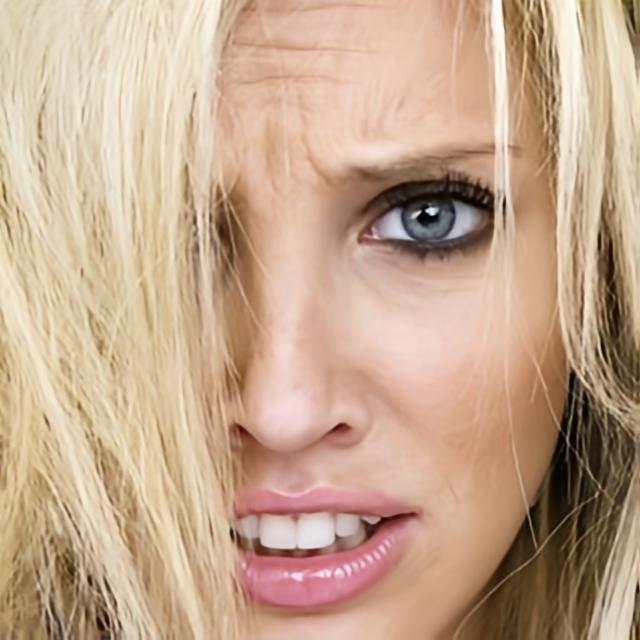disgust: (222, 0, 570, 640)
